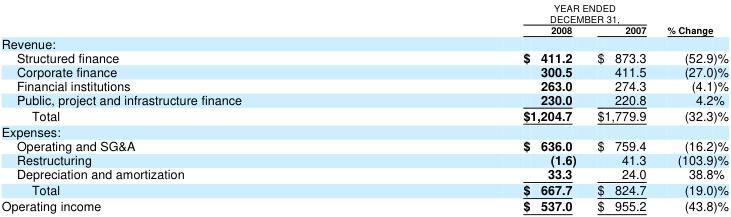table: (0, 0, 727, 214)
table column: (0, 0, 381, 214), (381, 0, 586, 214), (656, 0, 727, 214), (586, 0, 656, 214)
table column header: (0, 0, 727, 35)
table projected row header: (0, 123, 727, 138), (0, 35, 727, 49)
table row: (0, 0, 727, 23), (0, 197, 727, 214), (0, 107, 727, 123), (0, 181, 727, 197), (0, 63, 727, 78), (0, 92, 727, 107), (0, 123, 727, 138), (0, 166, 727, 181), (0, 35, 727, 49), (0, 49, 727, 63), (0, 78, 727, 92), (0, 138, 727, 152), (0, 152, 727, 166), (0, 23, 727, 35)
table spanning cell: (381, 0, 656, 23), (656, 0, 727, 35)
